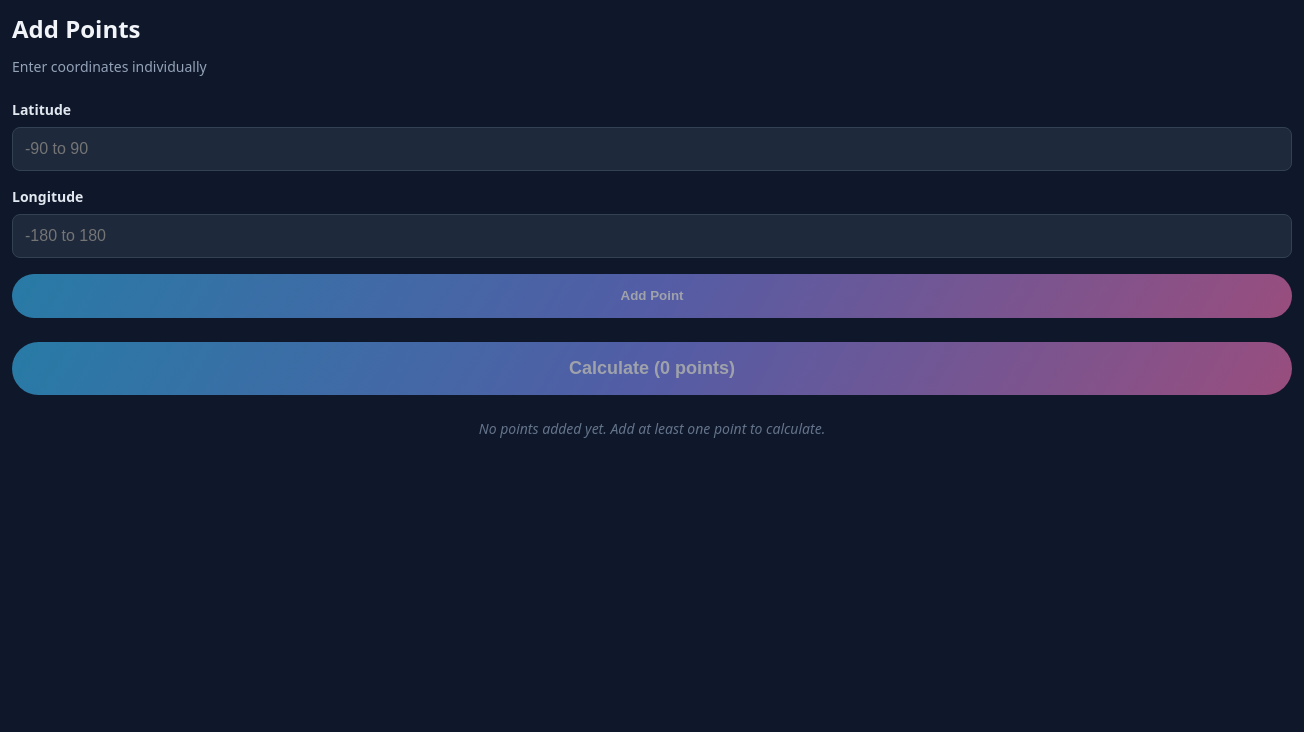
PointInputForm › Adding Points › should add a valid point to the table
In the number field labelled "Latitude": [652, 149] box [12,127,1292,171], type "40.7128"
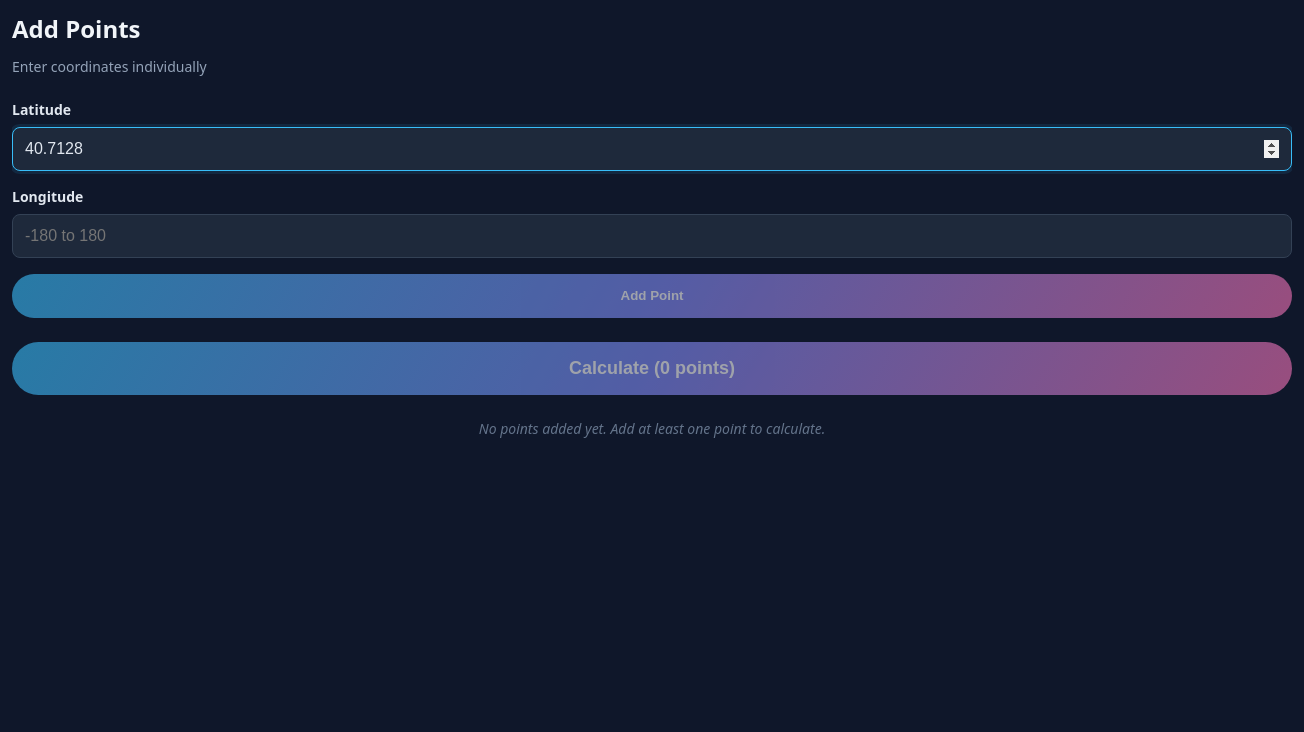
In the number field labelled "Longitude": [652, 236] box [12,214,1292,258], type "-74.0060"
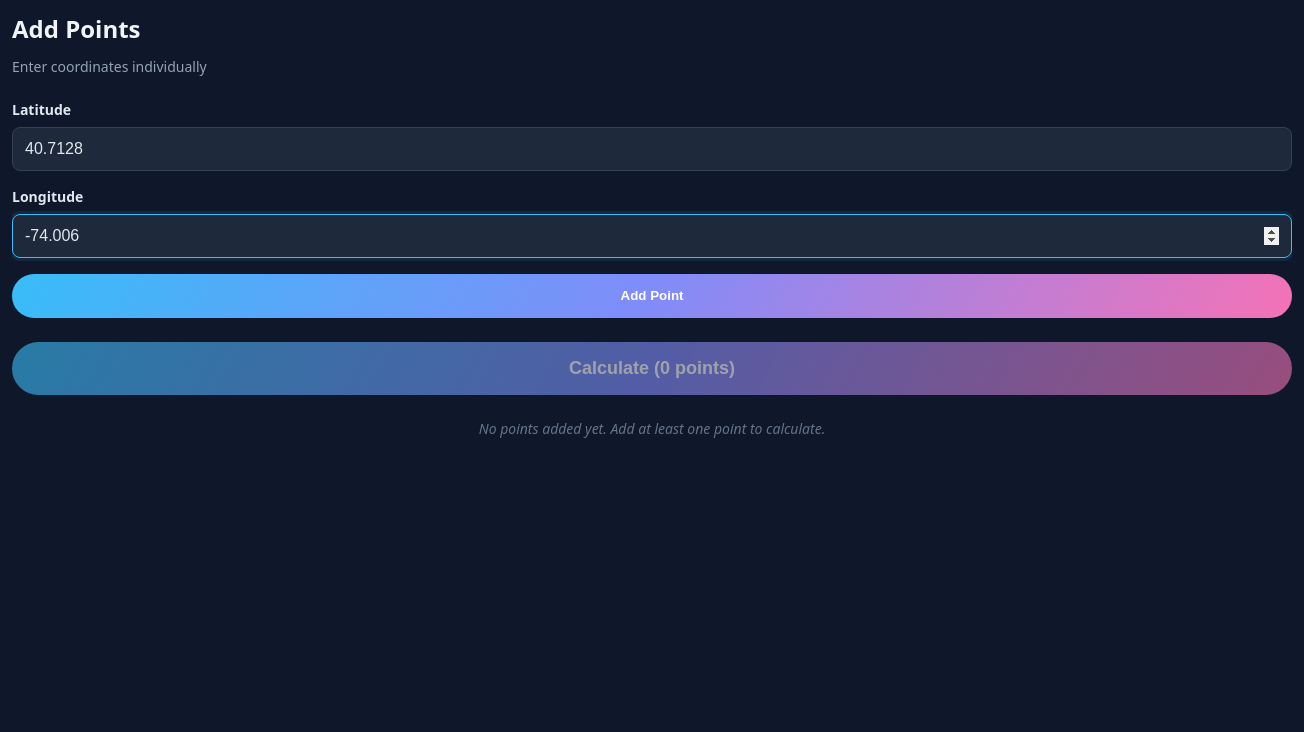
Click the button "Add Point": [652, 296] box [12,274,1292,318]
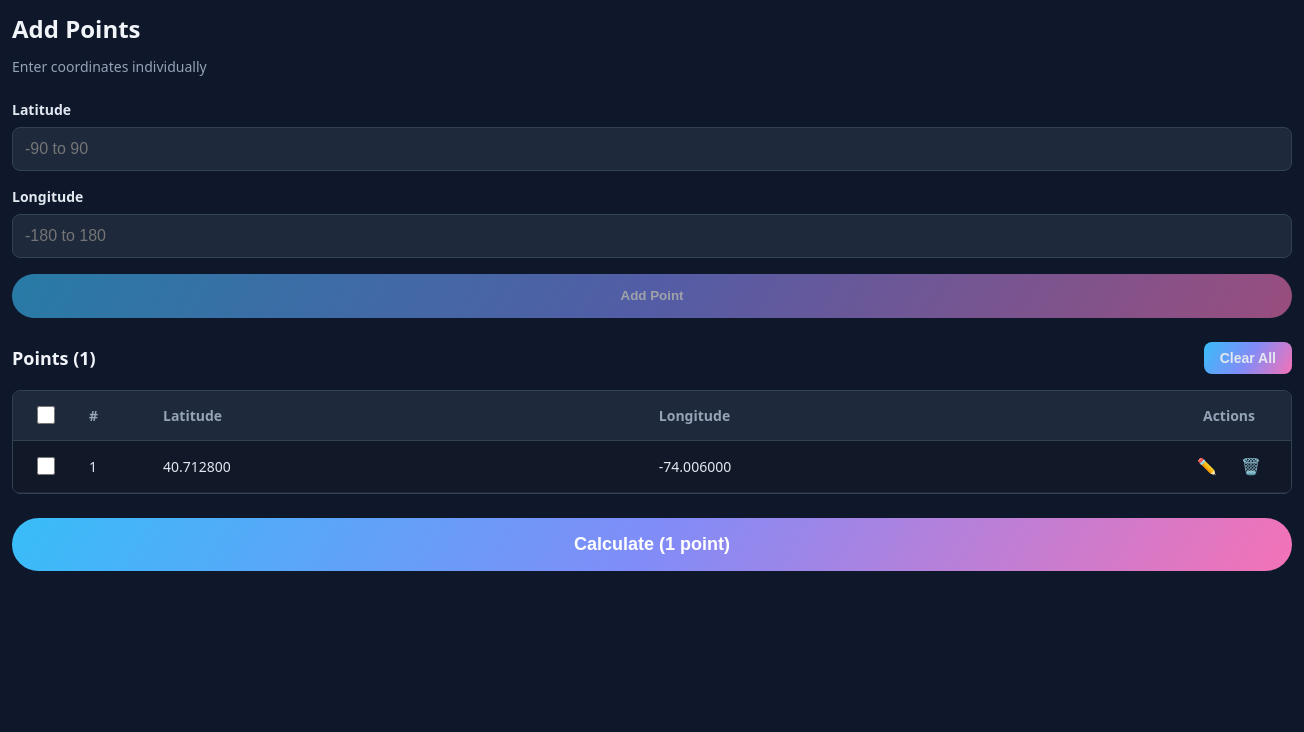
Now the table is shown, box [13,391,1291,493]
Now the text "40.712800" is shown, box [151,440,647,492]
Now the text "-74.006000" is shown, box [647,440,1167,492]
